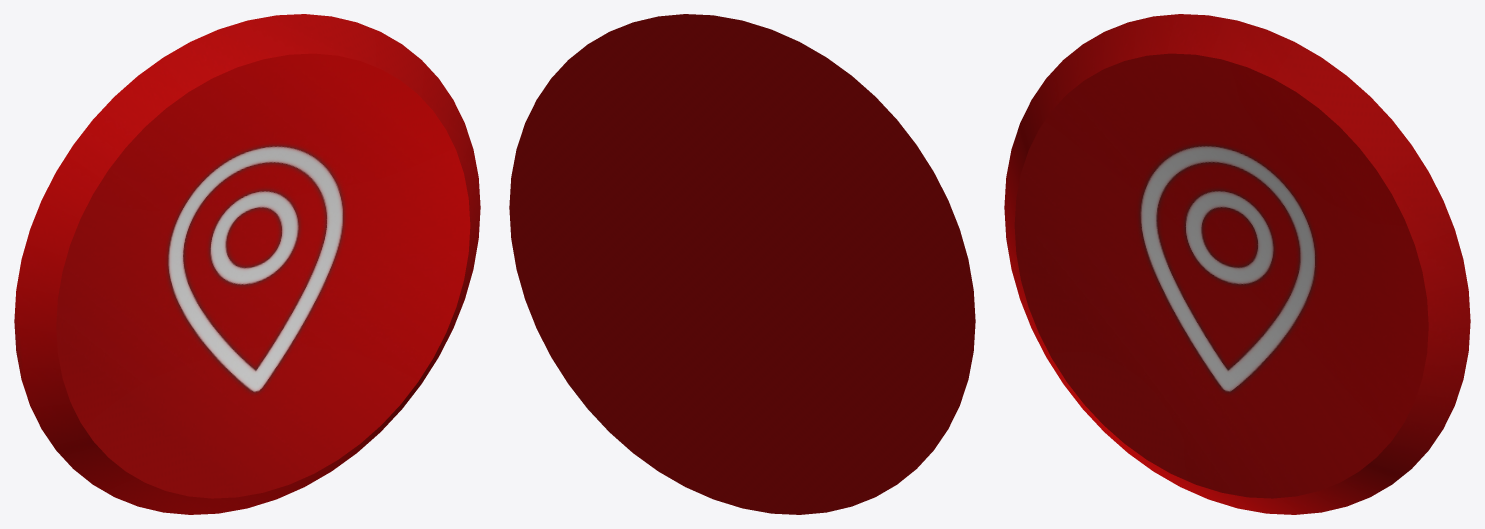
File: boton-operaciones-desplegado-estatico.gltf
3 renders of one model, left to right at view 1: azimuth 30°, elevation 25°; view 2: azimuth 150°, elevation 25°; view 3: azimuth 330°, elevation 25°, orthographic.
Parts seen in each view (by area): view 1: Circle004; view 2: Circle004; view 3: Circle004.
Part boxes in pixels (x1,y1,x2,y2): Circle004: (14, 14, 480, 514); Circle004: (509, 14, 975, 514); Circle004: (1004, 14, 1470, 514).
Bounding box in the file's own units: 0.0508 × 0.0508 × 0.00299.
1 material, 1 textured.
